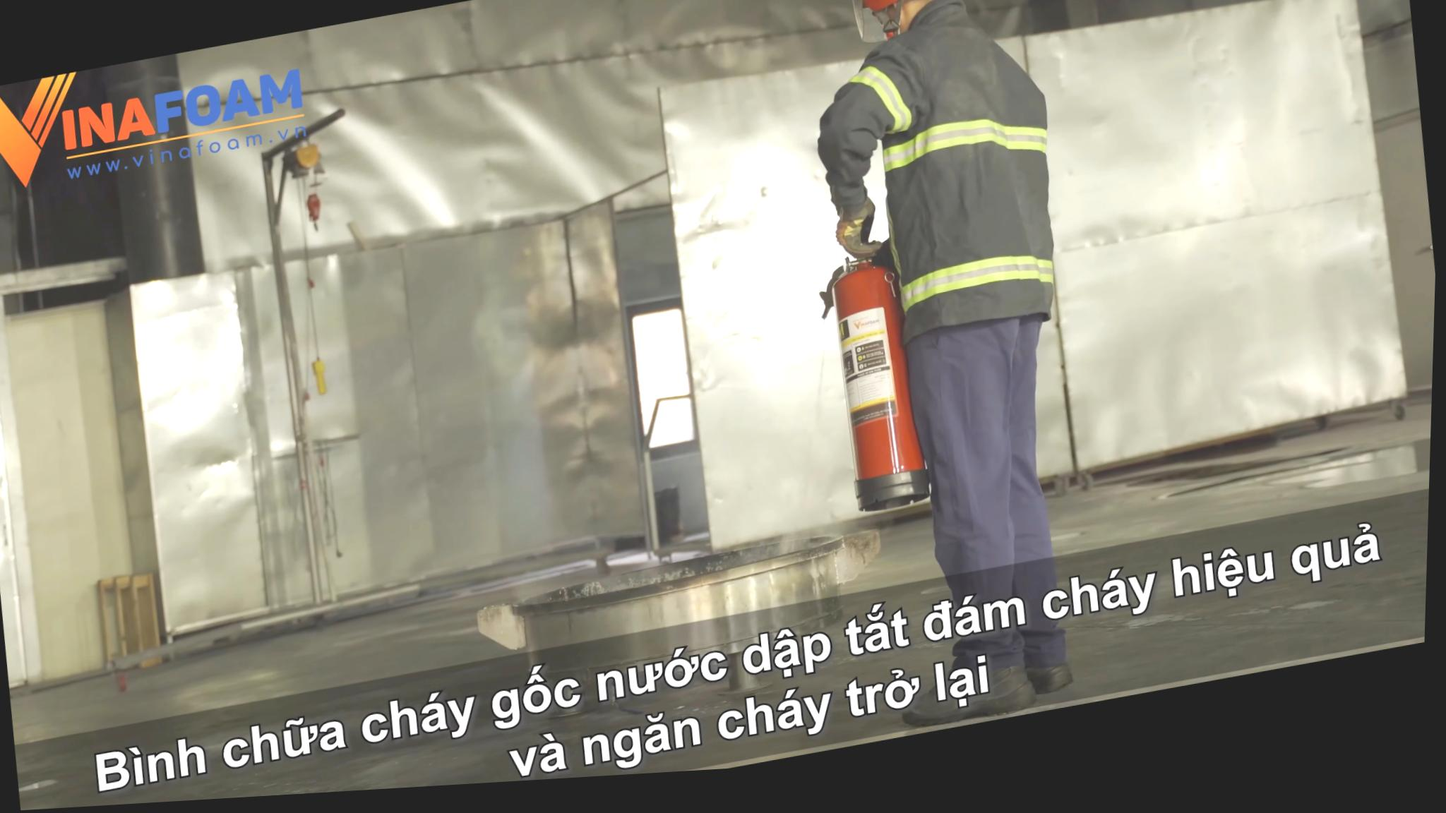FireExtinguisher: (800, 247, 949, 542)
not: (0, 58, 173, 198)
